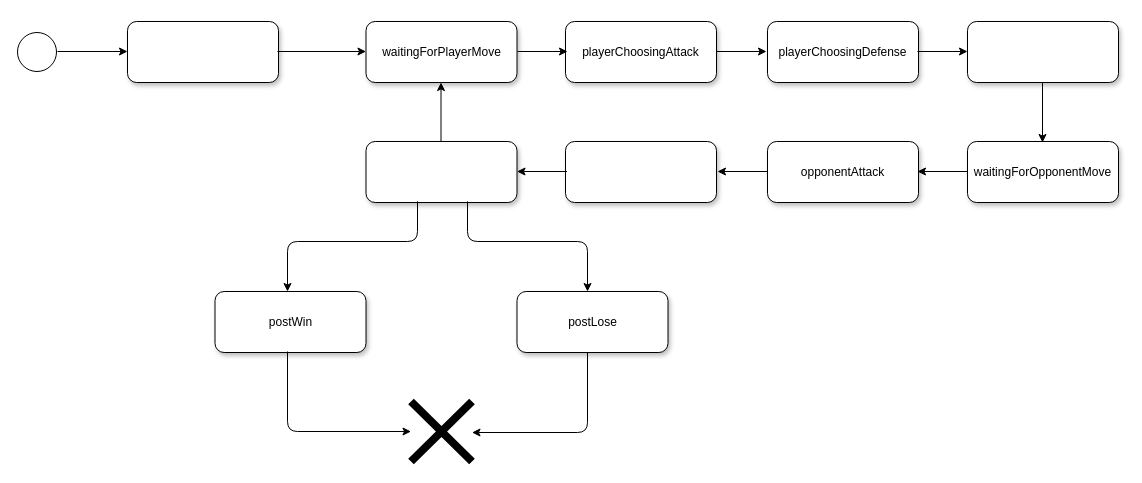
The diagram is 1142 pixels wide and 483 high, and some of its shapes have lost their labels. Here are the shapes that lost their labels. From the top down, the centre of each, then its label:
the point at 203,53: inFightTransition
the point at 1043,53: playerChoosingHeal
the point at 442,173: opponentHeal
the point at 641,173: opponentDefense
